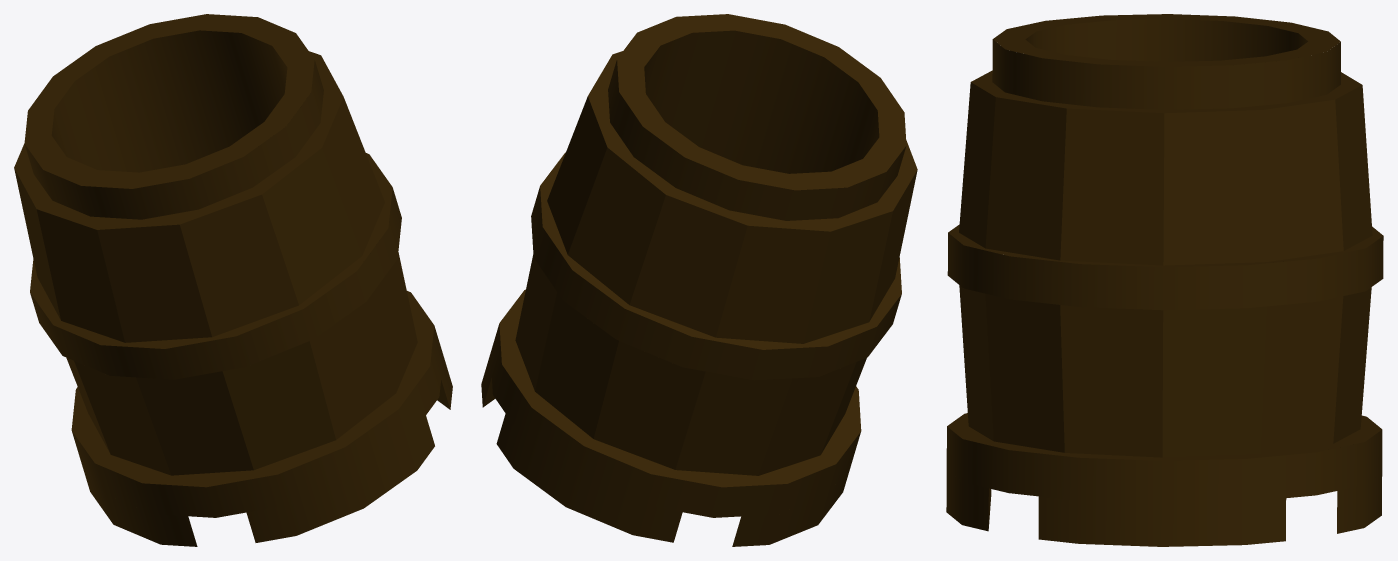
The model's file is 2489_barrel_2x2x2.glb.
The picture shows the model from 3 angles, left to right: view 1: azimuth 30°, elevation 25°; view 2: azimuth 150°, elevation 25°; view 3: azimuth 270°, elevation 25°; orthographic projection. The views are drawn at different scales.
Parts seen in each view (by area): view 1: 2489.dat; view 2: 2489.dat; view 3: 2489.dat.
Boxes of the visible parts, <box> form: 2489.dat: <box>14,14,452,546</box>; 2489.dat: <box>481,14,917,546</box>; 2489.dat: <box>946,14,1383,546</box>.
Size of the model in its own units: 1.91 by 2.09 by 1.61.
